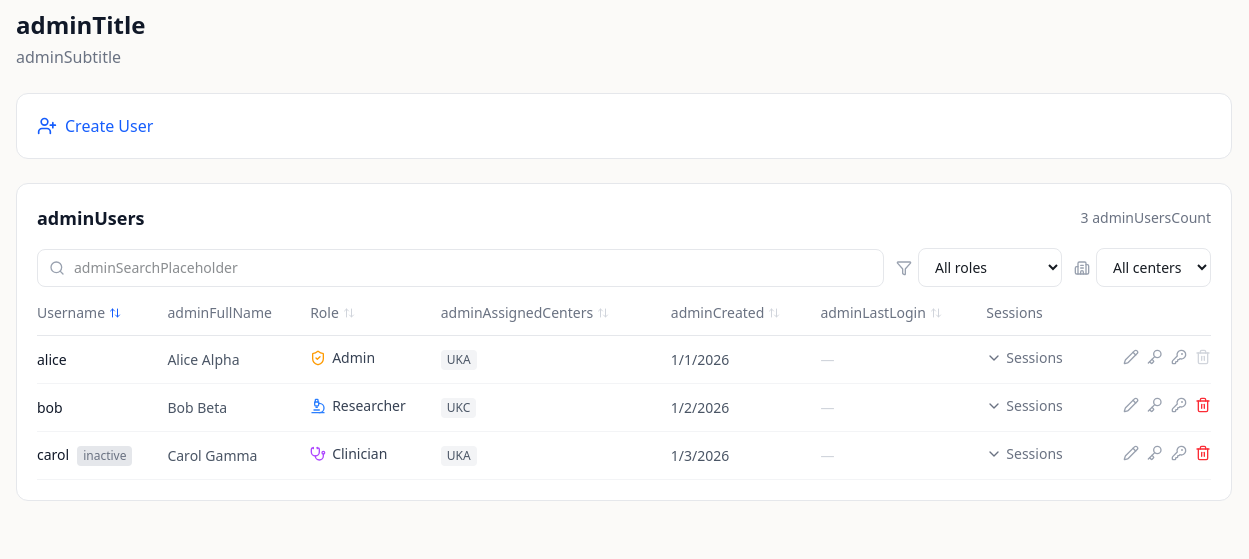
Test: UMGMT-02 — edit dialog: firstName, lastName all required › shows firstName error and blocks submit when firstName is empty
Expected: the text "alice" is shown, top-left (37, 336), bottom-right (167, 384)
Expected: the text "bob" is shown, top-left (37, 384), bottom-right (167, 432)
Click the button named "Edit" in the row of "Bob Beta" at (1131, 405), box top-left (1123, 397), bottom-right (1139, 413)
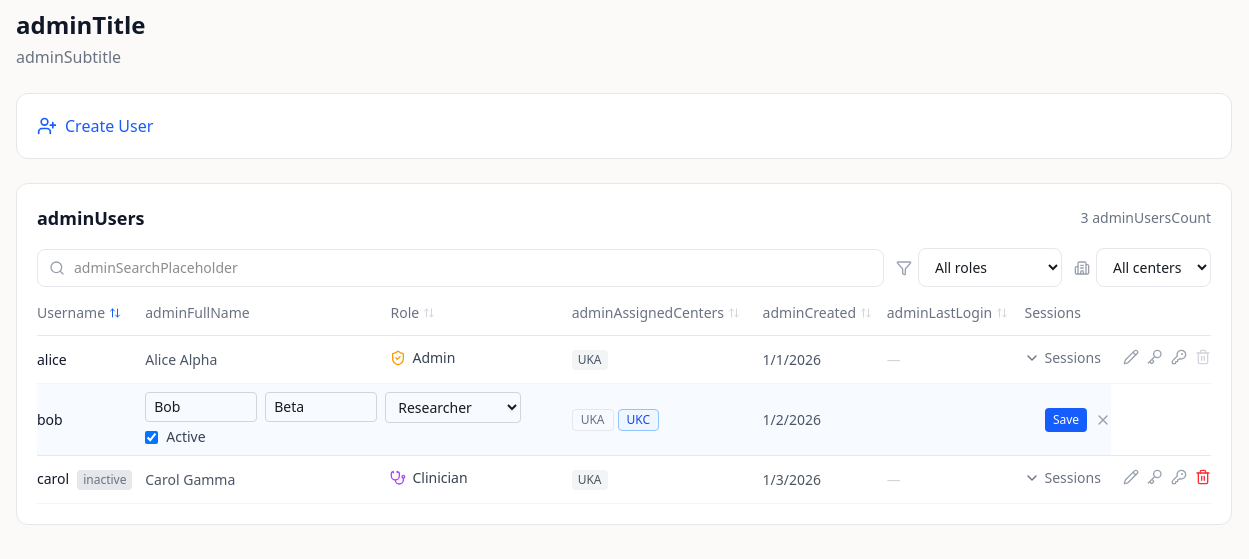
Now the 1st field with placeholder "First name" is shown
Clear the 1st field with placeholder "First name" at (201, 407), box top-left (145, 392), bottom-right (257, 422)
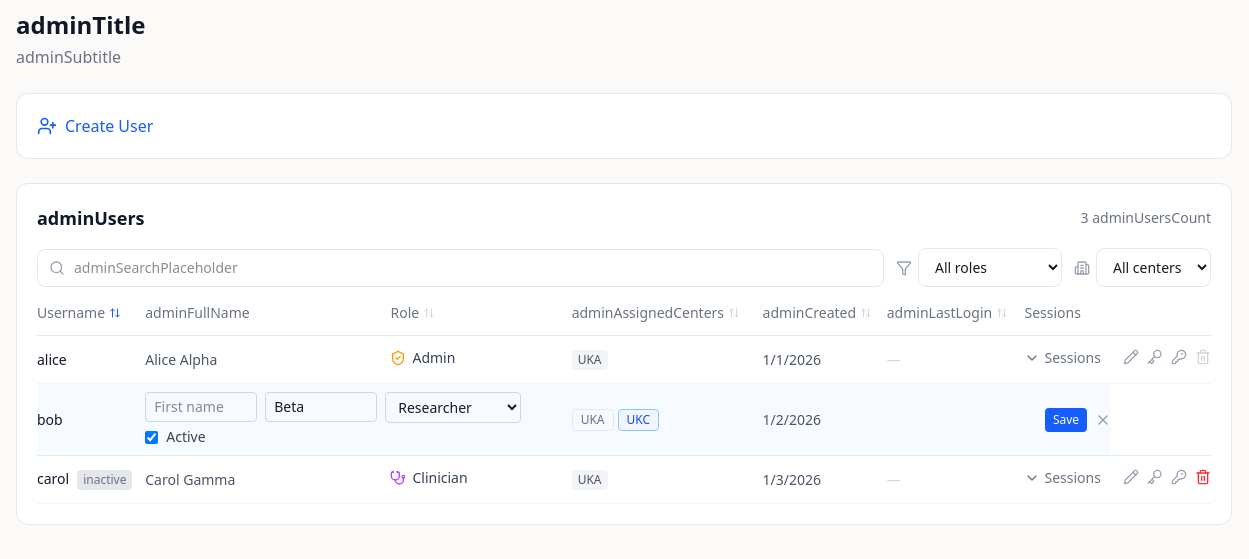
Click the button "Save" at (1066, 420), box top-left (1045, 408), bottom-right (1087, 432)
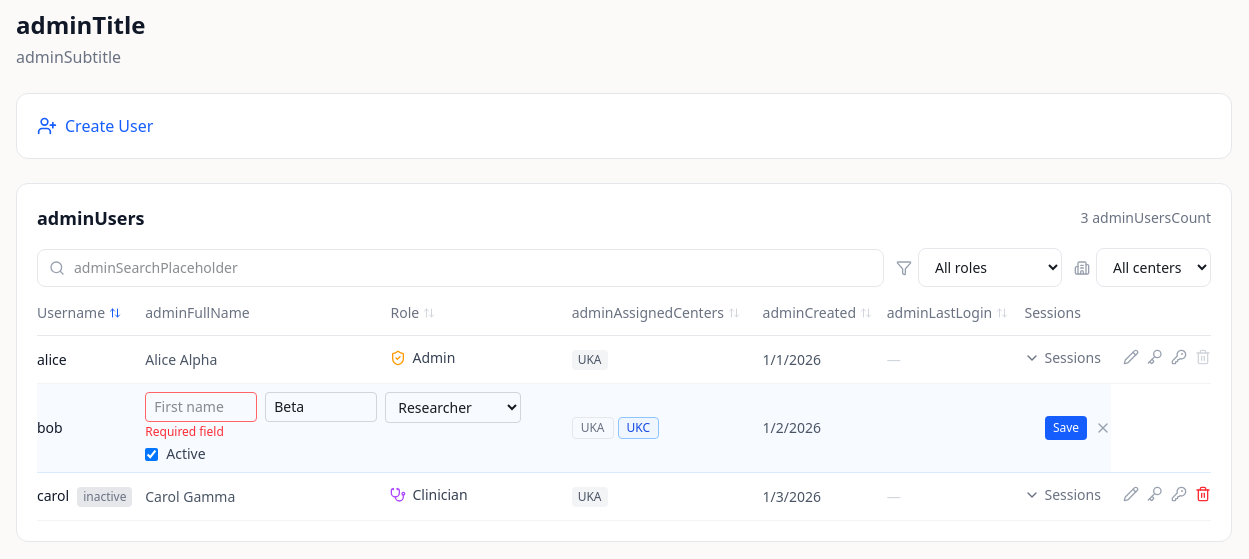
Now the text "Required field" is shown, box top-left (145, 423), bottom-right (224, 440)
